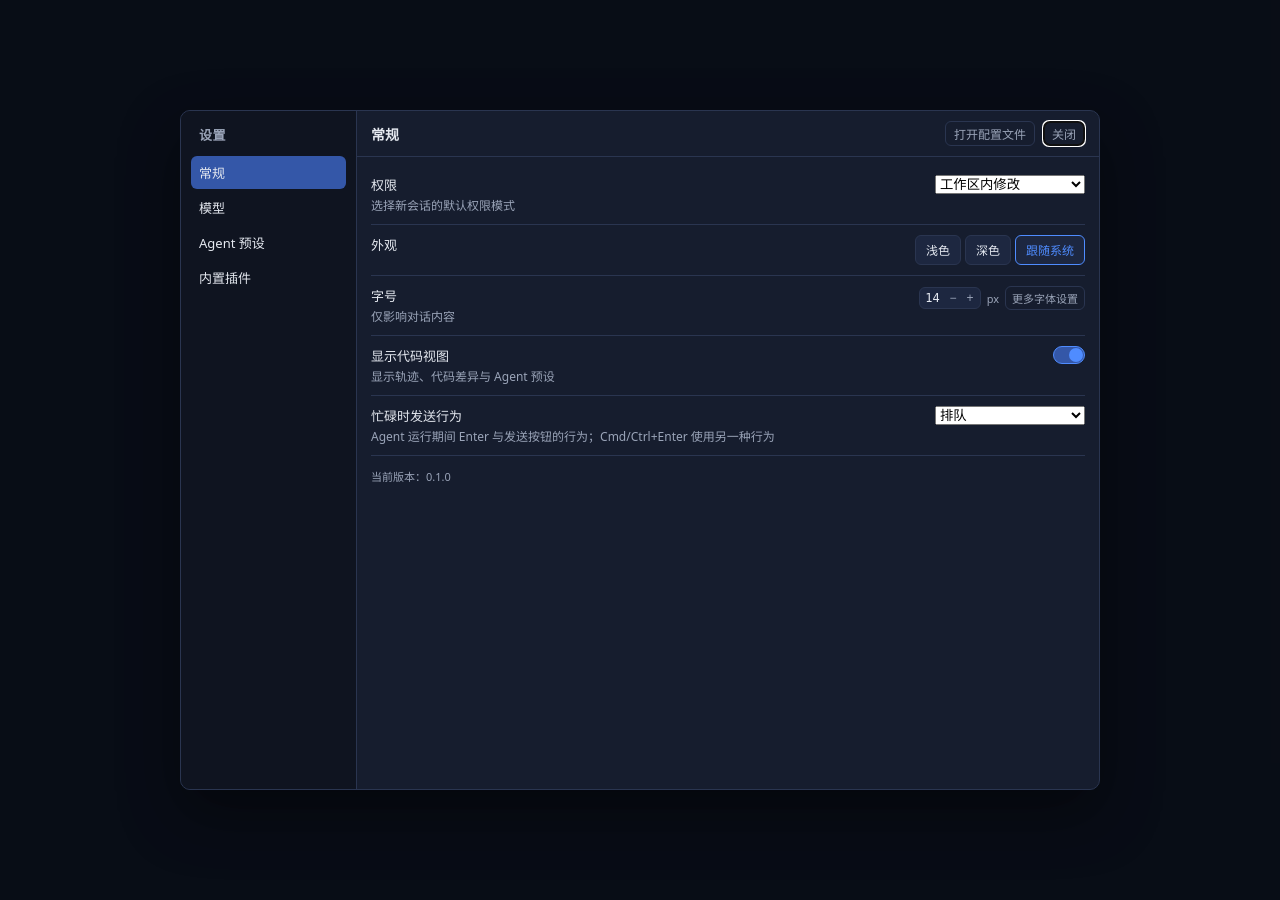
Test: SettingsDialog plugin namespaces › never receives a stored secret and clears it through an unset op
Expected: the dropdown named "权限" shows "工作区内修改", [935,175,1085,194]
Click the button "内置插件".
click(268, 278)  # box [191,261,346,294]
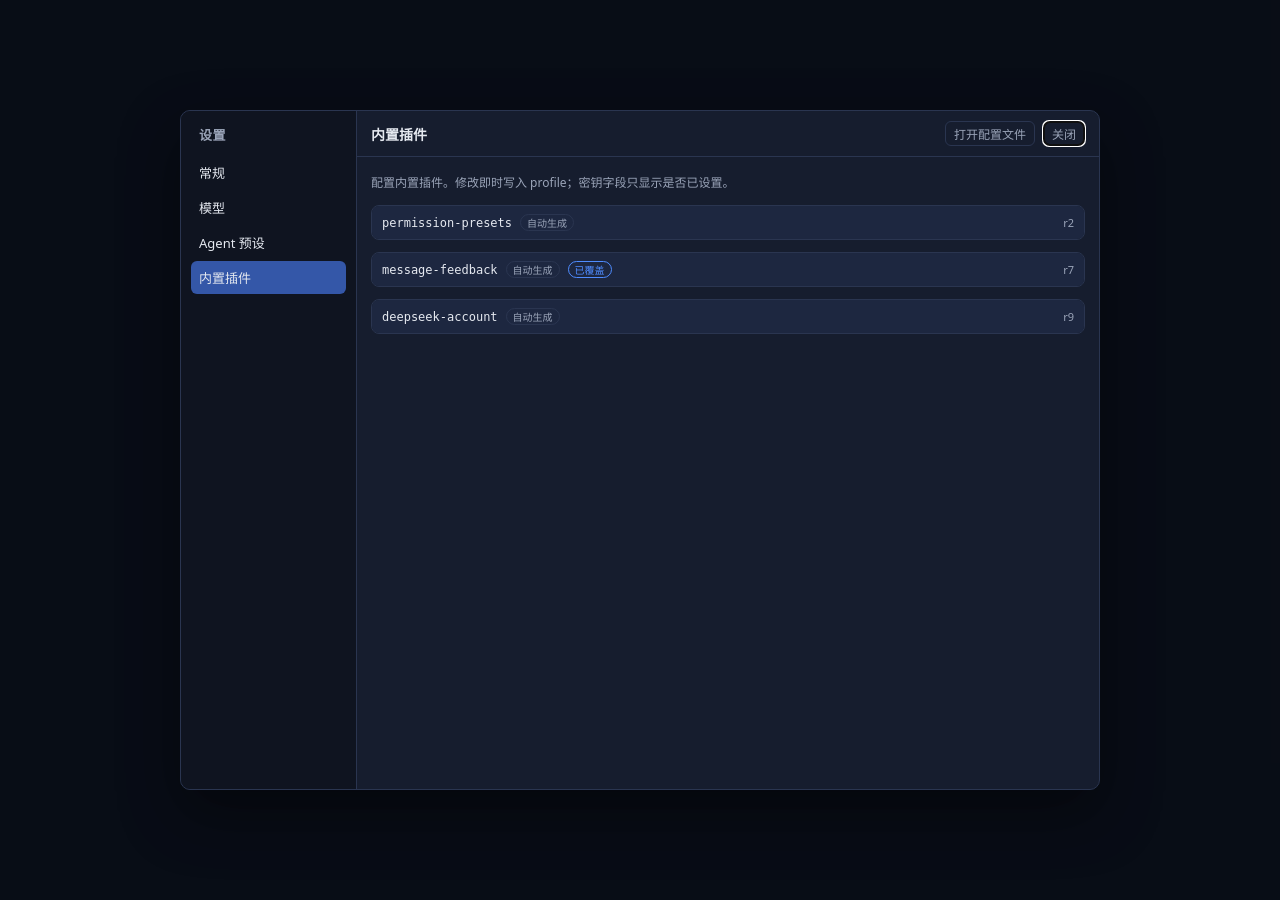
Click the button "deepseek-account 自动生成 r9".
click(440, 316)  # box [372,300,1084,333]
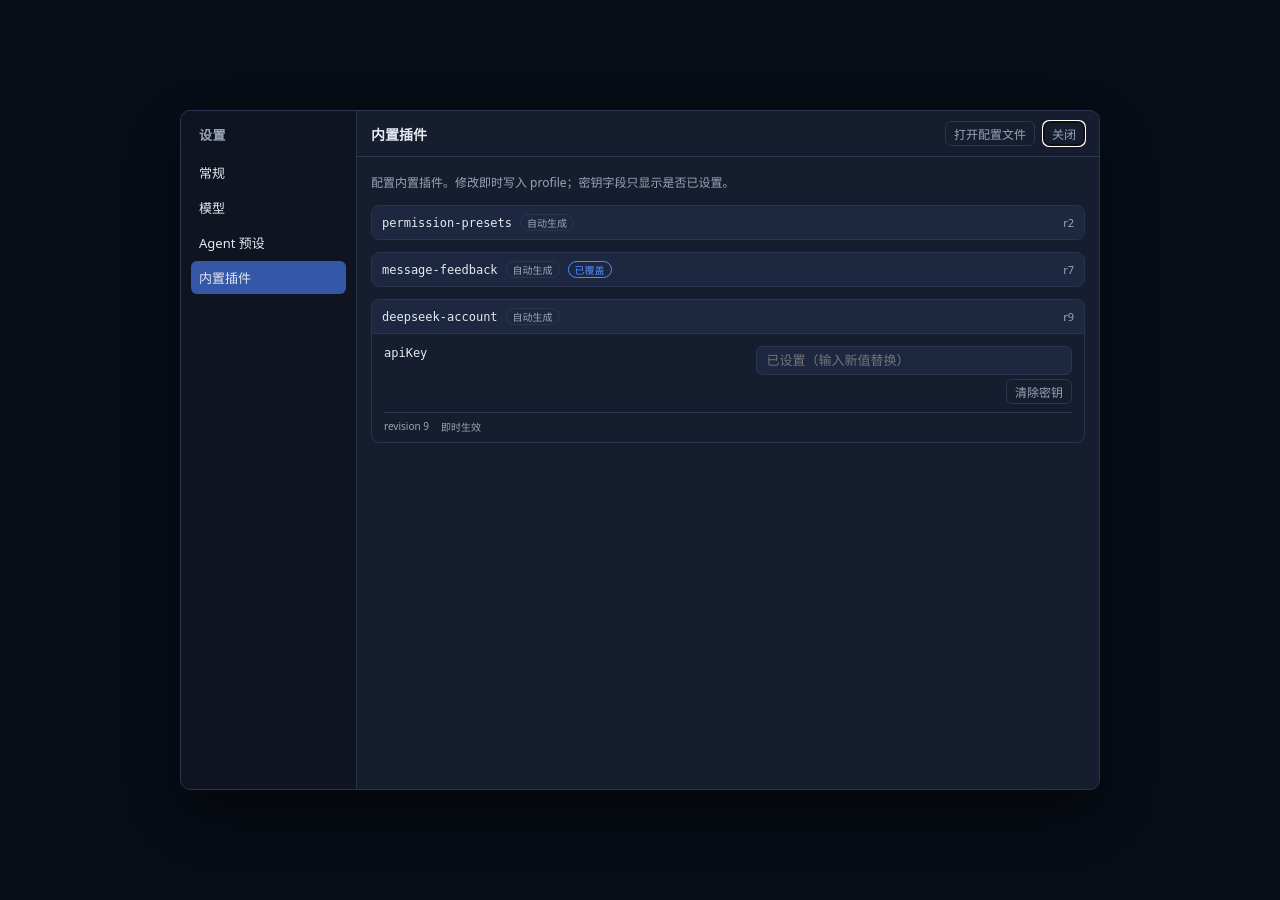
Now the password field named "apiKey" is empty
Type "sk-new" into the password field named "apiKey".
click(914, 360); type("sk-new")  # box [756,346,1072,375]
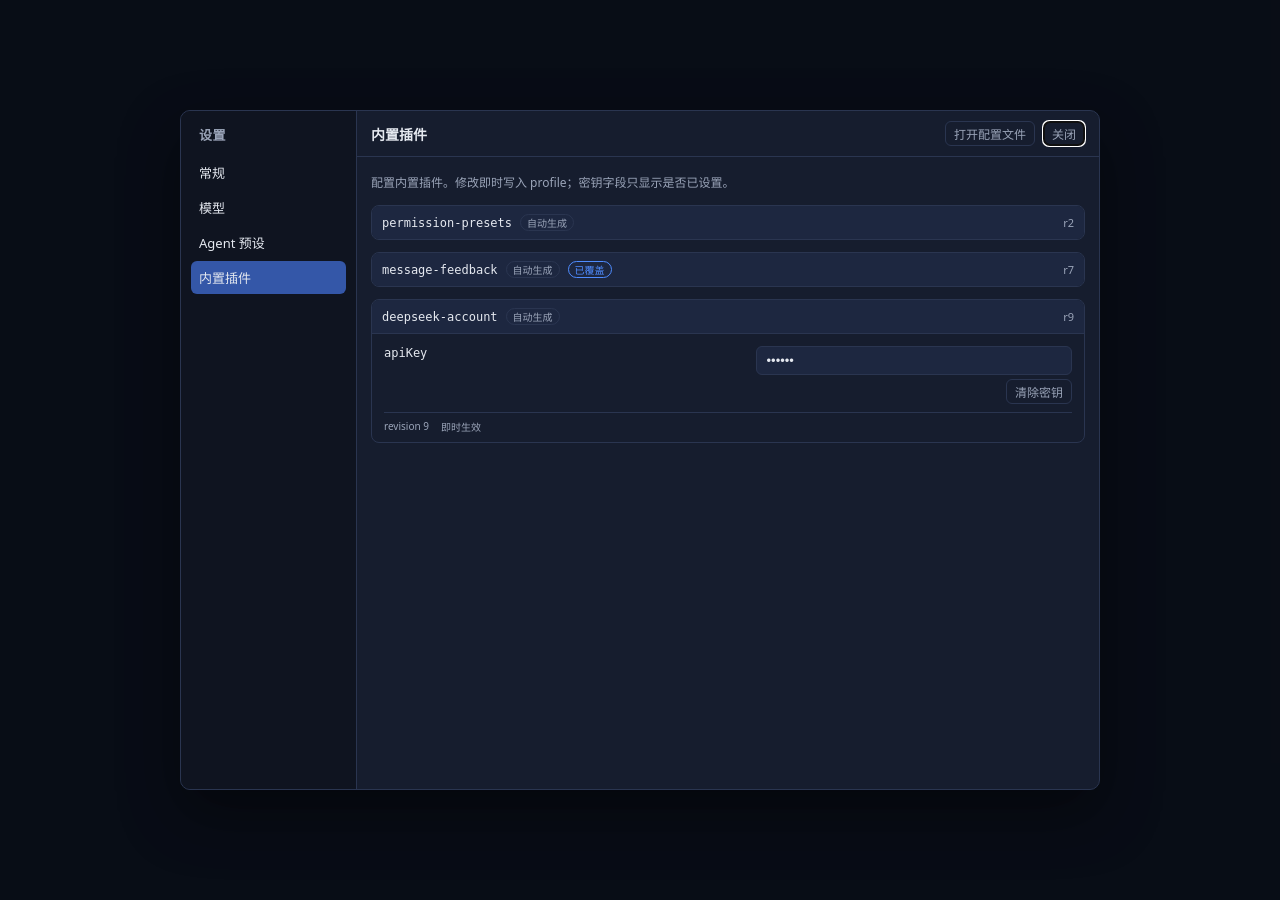
Leave the password field named "apiKey", box [756,346,1072,375]
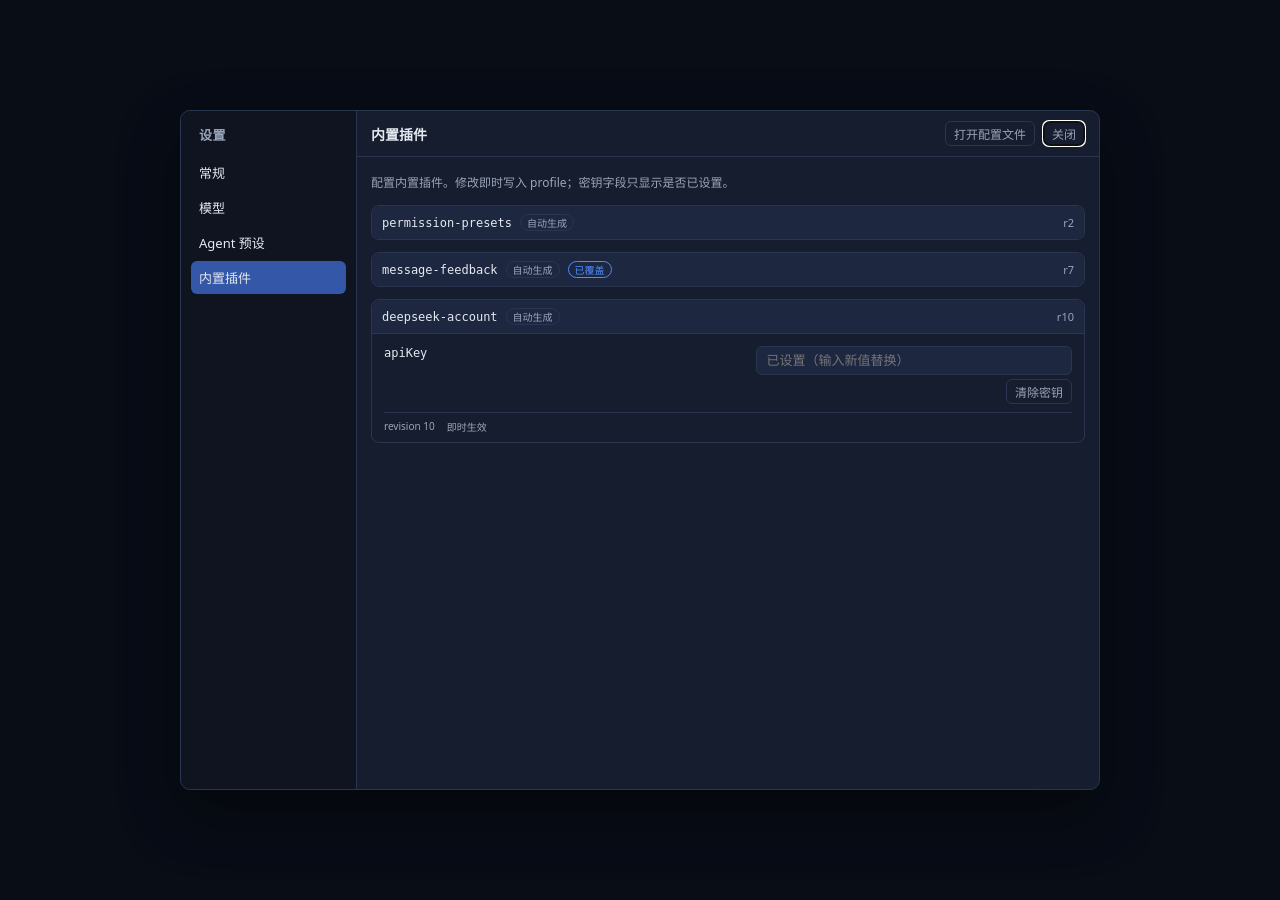
Now the password field named "apiKey" is empty, box [756,346,1072,375]
Click the button "清除密钥".
click(1039, 392)  # box [1006,379,1072,404]
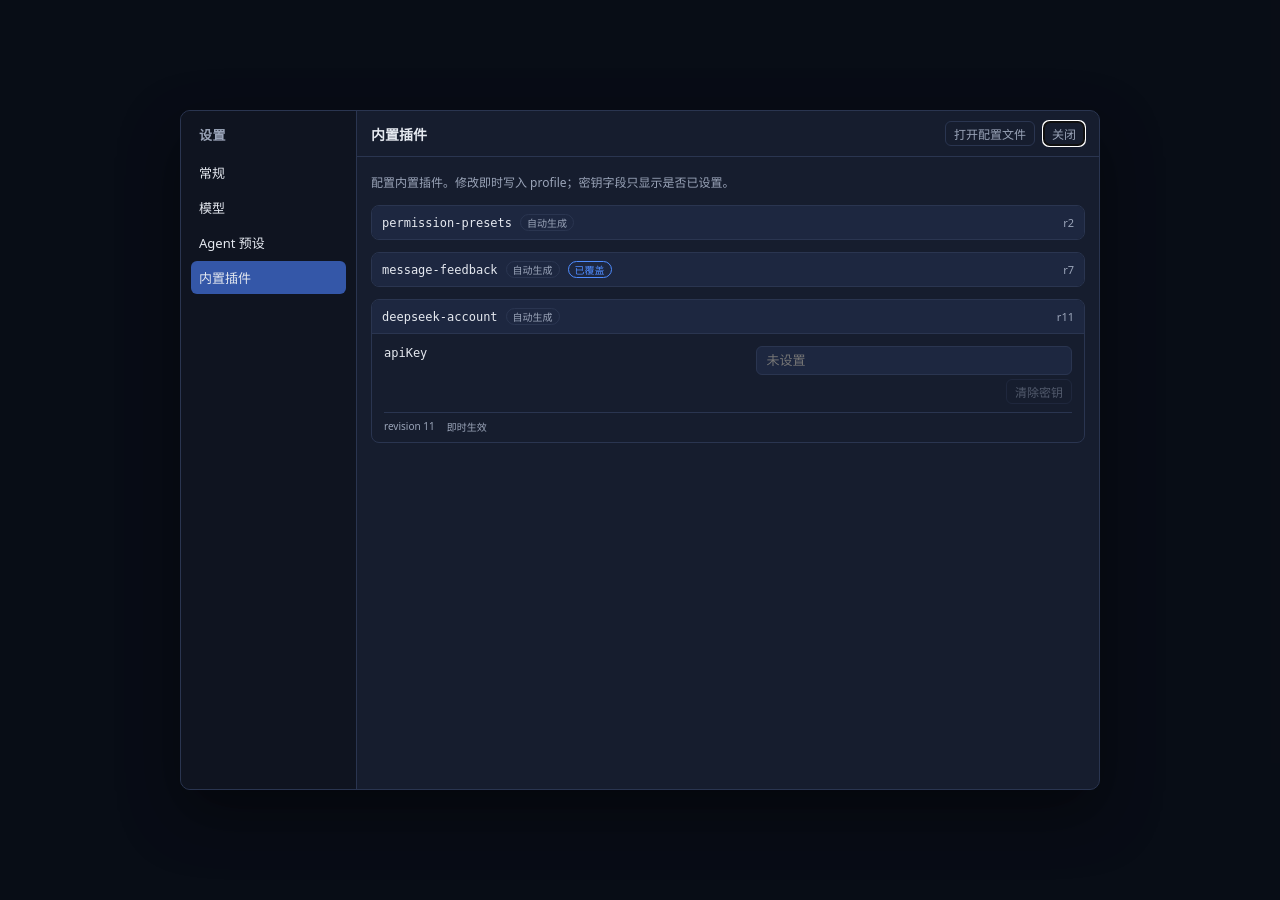
Now the button "清除密钥" is disabled, box [1006,379,1072,404]
